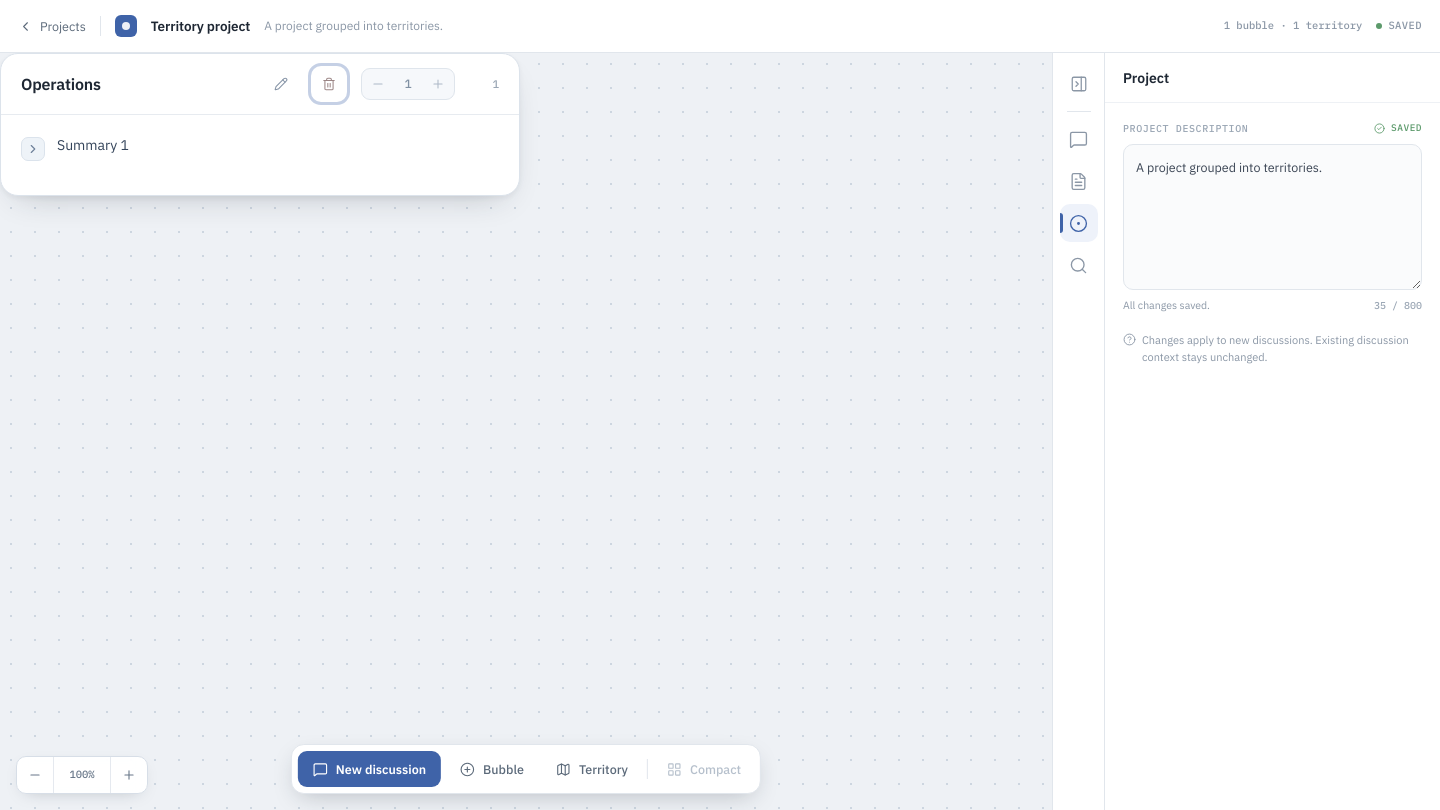
Test: ProjectWorkspace territory save status › confirms the move count, deletes, and refreshes reassigned bubbles under Ungrouped
What coordinates should you click on to do the following:
click the button named "Delete Operations"
I would click on:
 (329, 84)
Its box is left=313, top=68, right=345, bottom=100.
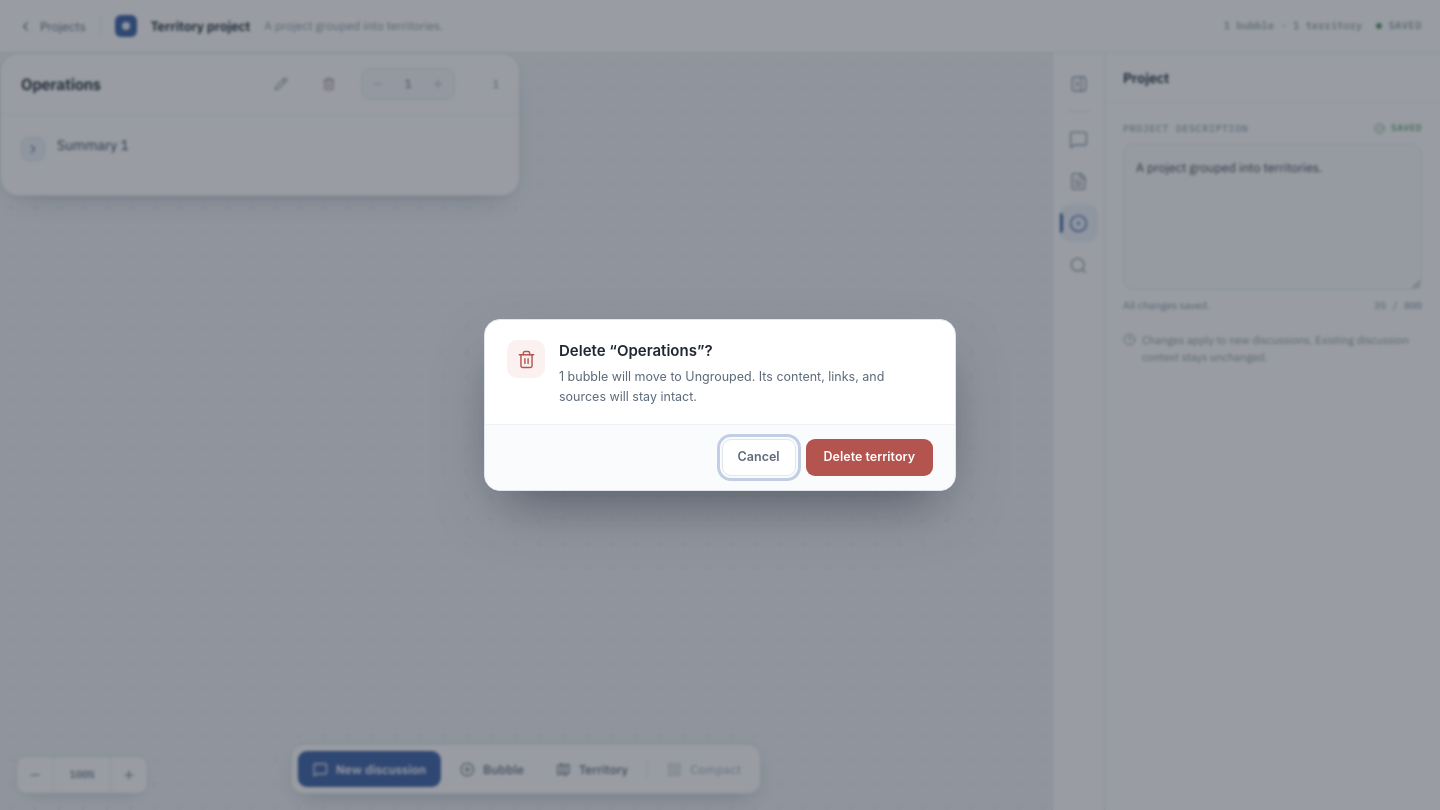
expect the text "1 bubble will move to Ungrouped. Its content, links, and sources will stay intact." is shown: met, box left=559, top=369, right=884, bottom=404
What coordinates should you click on to do the following:
click the button "Delete territory"
I would click on:
 (869, 457)
Its box is left=806, top=439, right=933, bottom=476.
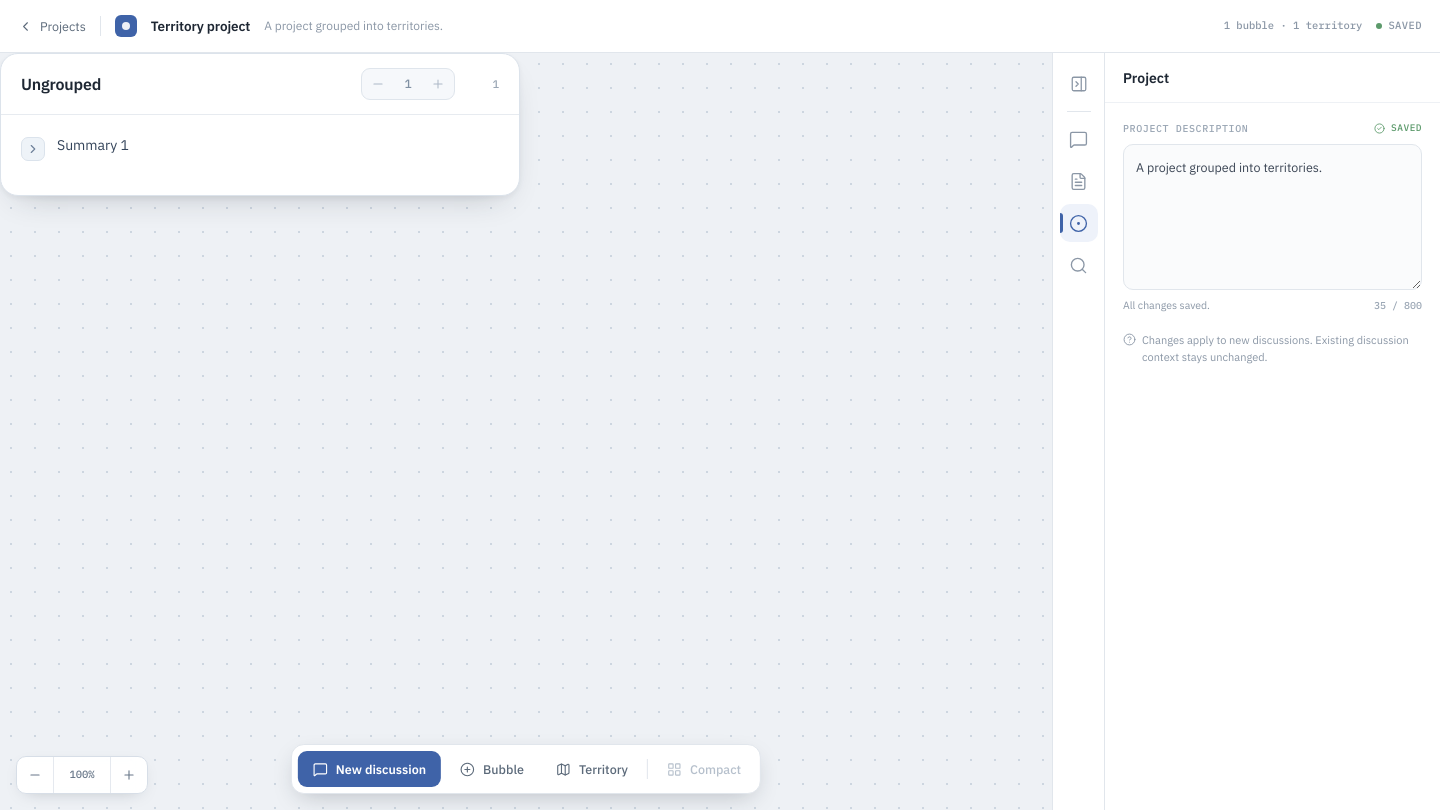
expect the list item with aria-label "Bubble 1" is shown: met, box left=21, top=136, right=129, bottom=161
expect the header named "Move Ungrouped territory. Use the arrow keys." is shown: met, box left=1, top=54, right=519, bottom=115
expect the heading "Operations" is gone: met
